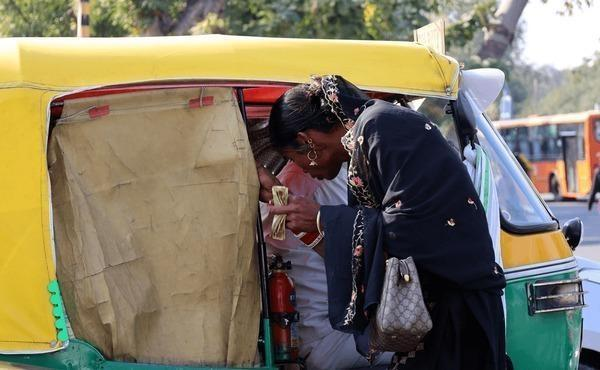keke: (5, 29, 580, 367)
